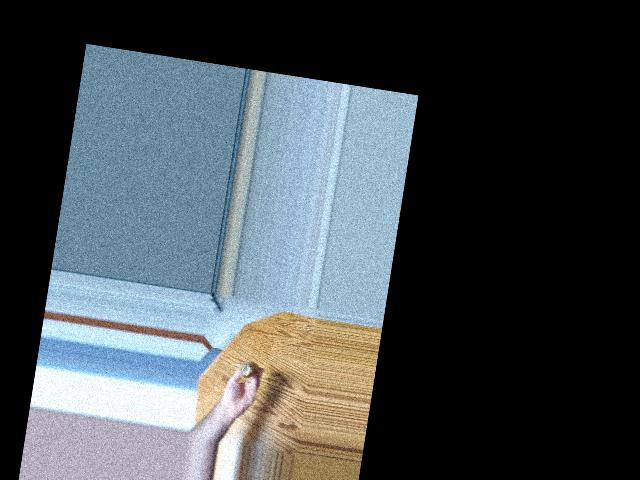sweet_potato: (236, 356, 255, 378)
